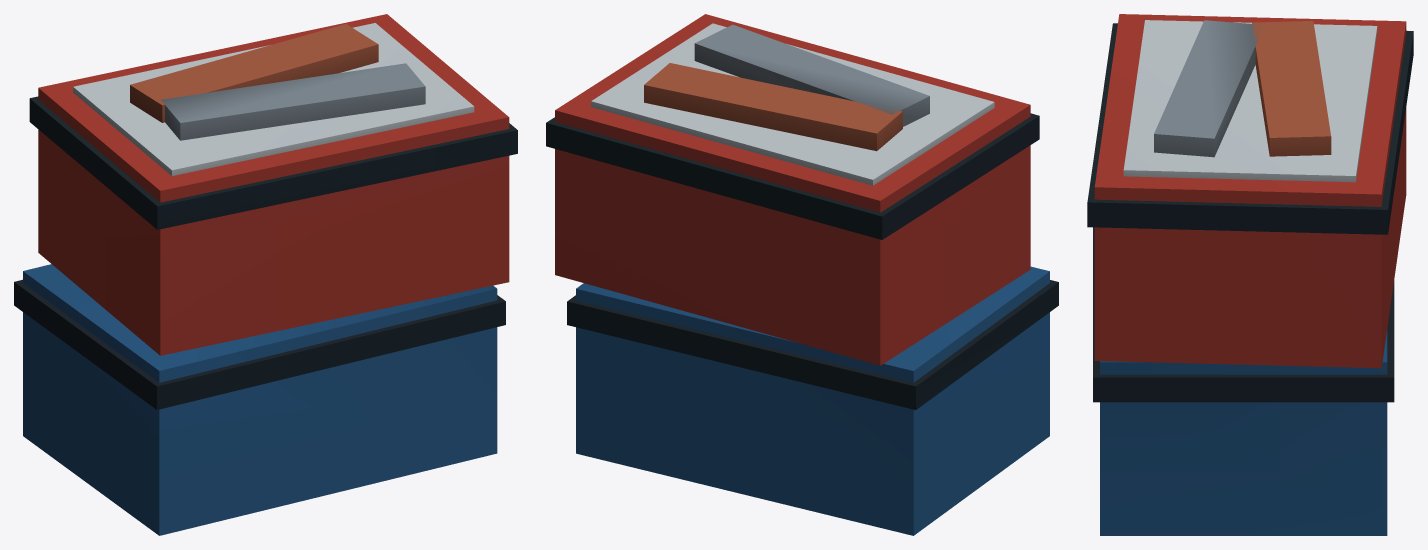
Rendered from crate_stack-CMU9Pg-o.glb.
3 views of the same model, side by side, from view 1: azimuth 30°, elevation 25°; view 2: azimuth 150°, elevation 25°; view 3: azimuth 270°, elevation 25° (orthographic). The views are drawn at different scales.
Size of the model in its own units: 0.6626 by 0.61 by 0.4764.
